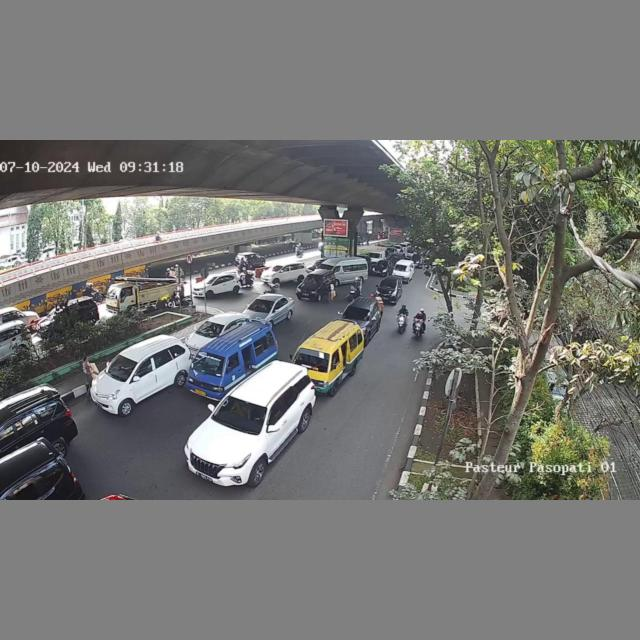windshield: (213, 394, 271, 433), (296, 349, 334, 371), (105, 355, 139, 378), (195, 352, 228, 374), (342, 306, 373, 321), (198, 320, 222, 335), (249, 299, 274, 313), (301, 274, 324, 284)
